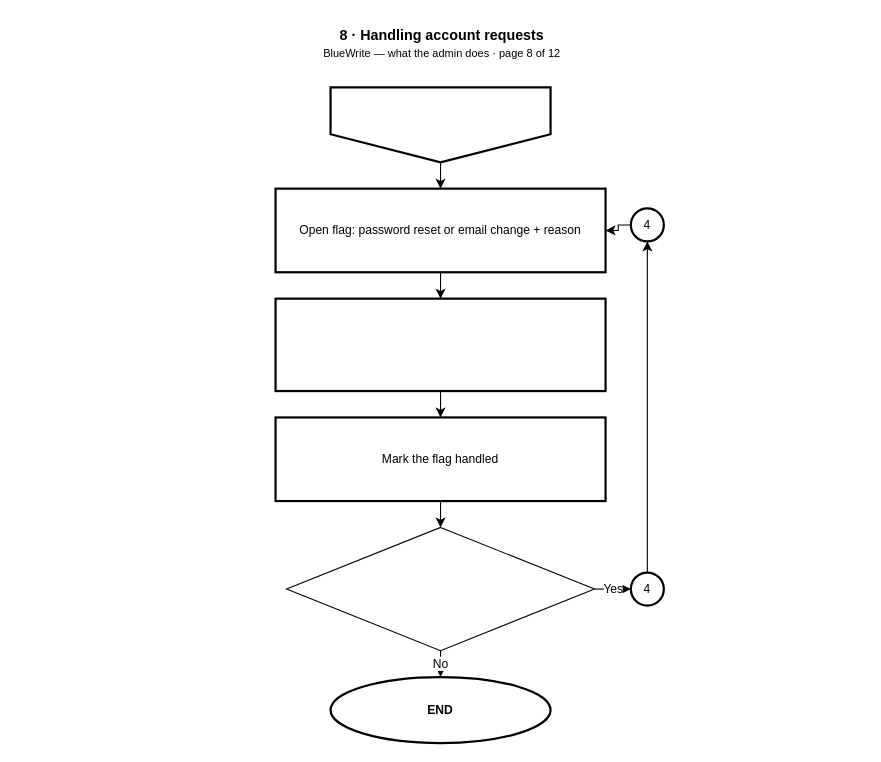
This 881x762 diagram has some shape labels left out. The shapes that lost their labels are listed below. From the top down, each one's centre as x and y in pixels, then its label:
(x=440, y=124): G: open request flags
(x=440, y=344): Act in User mgmt — the reset or change (audited)
(x=440, y=588): More flags?
